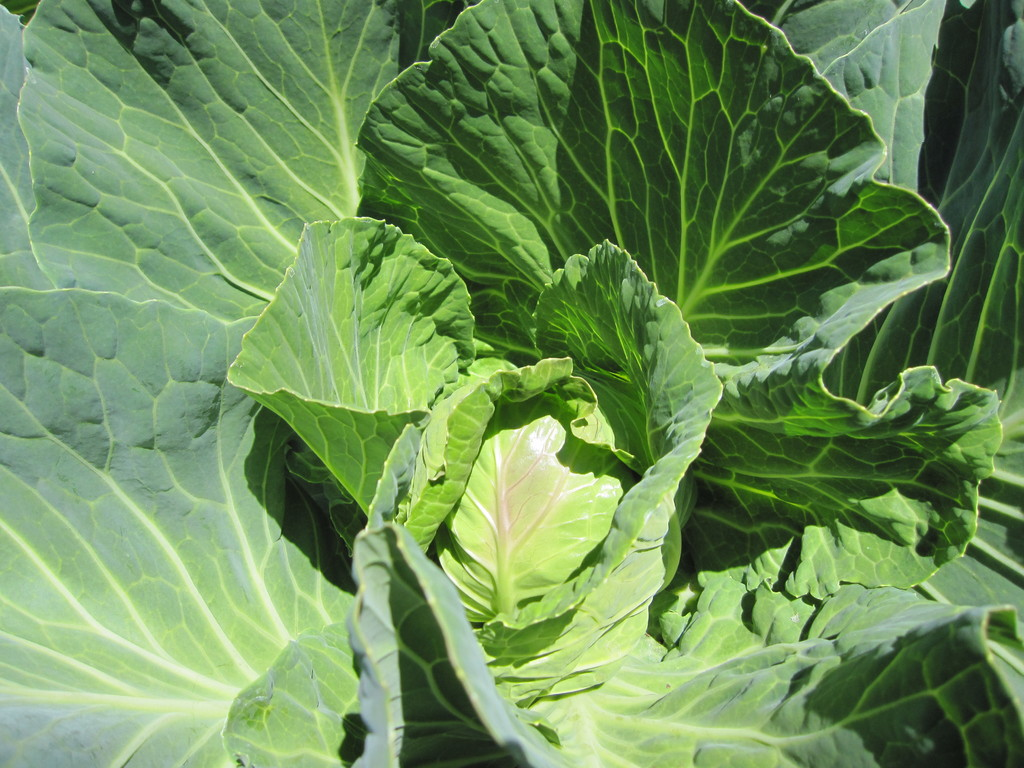Cabbage: (409, 389, 619, 630)
